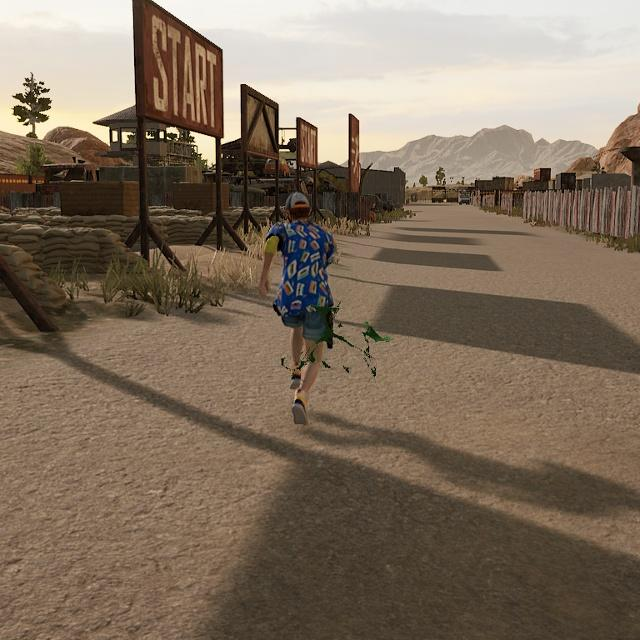head: (285, 189, 320, 226)
people: (255, 185, 353, 425)
